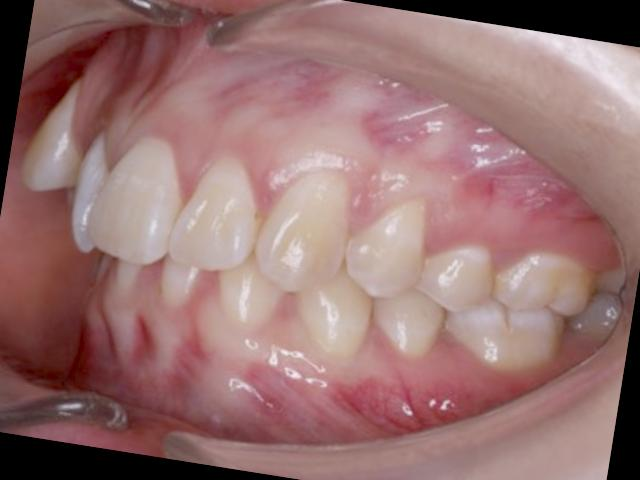canine class I: (203, 146, 396, 388)
molar class III 1/2: (437, 234, 607, 393)
